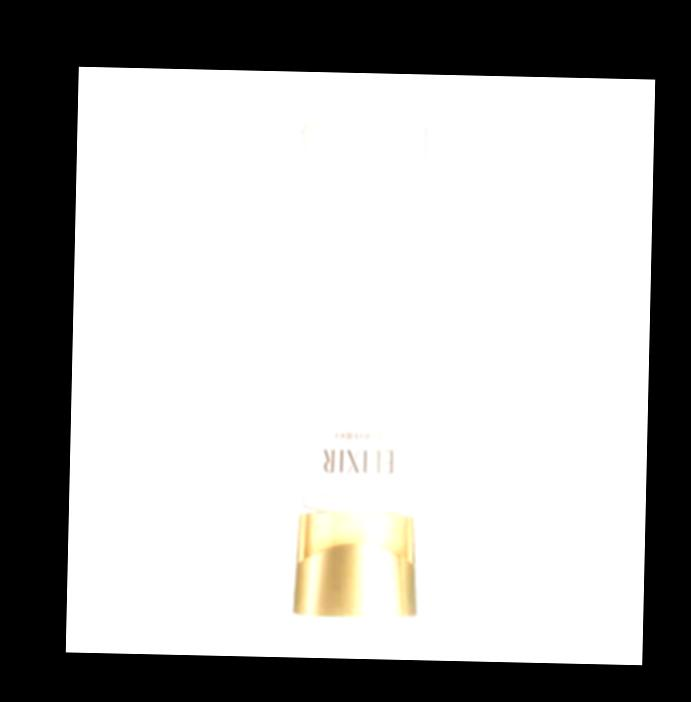cosmetic: (288, 116, 426, 620)
